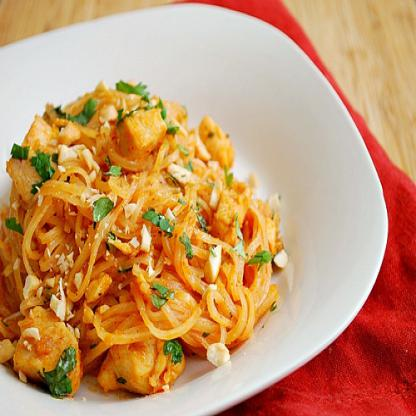Pad Thai: (0, 57, 280, 415)
